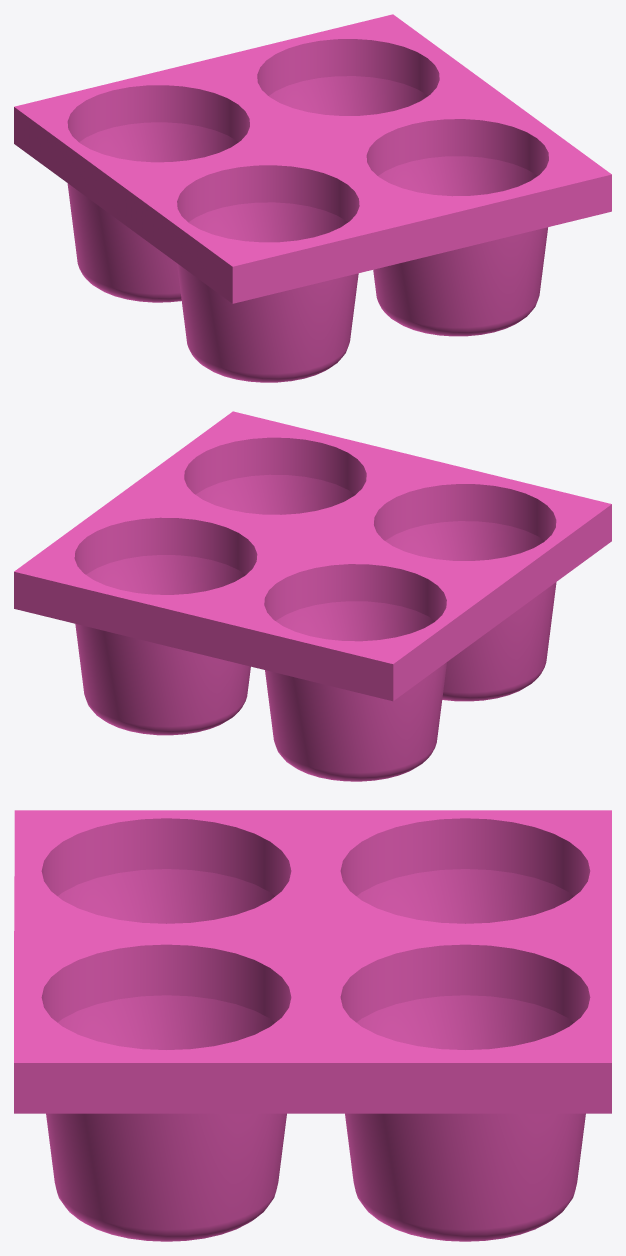
File: Cupcake Tray Sort - Tray 3.fbx
3 renders of one model, top to bottom at view 1: azimuth 30°, elevation 25°; view 2: azimuth 150°, elevation 25°; view 3: azimuth 270°, elevation 25°, orthographic. The views are drawn at different scales.
Visible parts, largest first — view 1: tray 3; view 2: tray 3; view 3: tray 3.
Part boxes in pixels (x1=…): tray 3: x1=14, y1=14, x2=611, y2=382; tray 3: x1=14, y1=411, x2=611, y2=781; tray 3: x1=14, y1=810, x2=611, y2=1241.
Size of the model in its own units: 0.0934 by 0.0934 by 0.0357.
